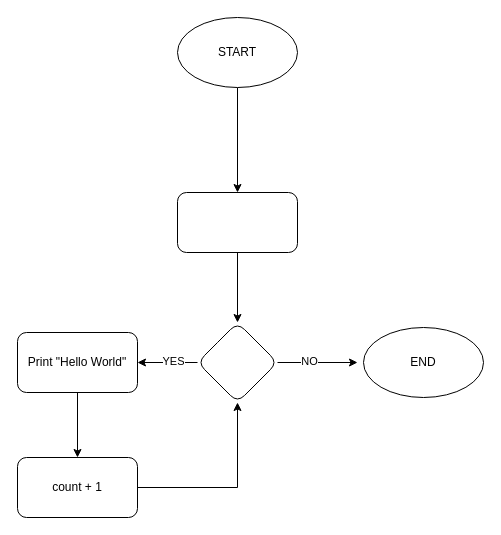
This 501x535 diagram has some shape labels left out. The centre of each missing label's shape, as x and y in pixels:
count = 0: pixel 237 222
Is count<100: pixel 237 362
